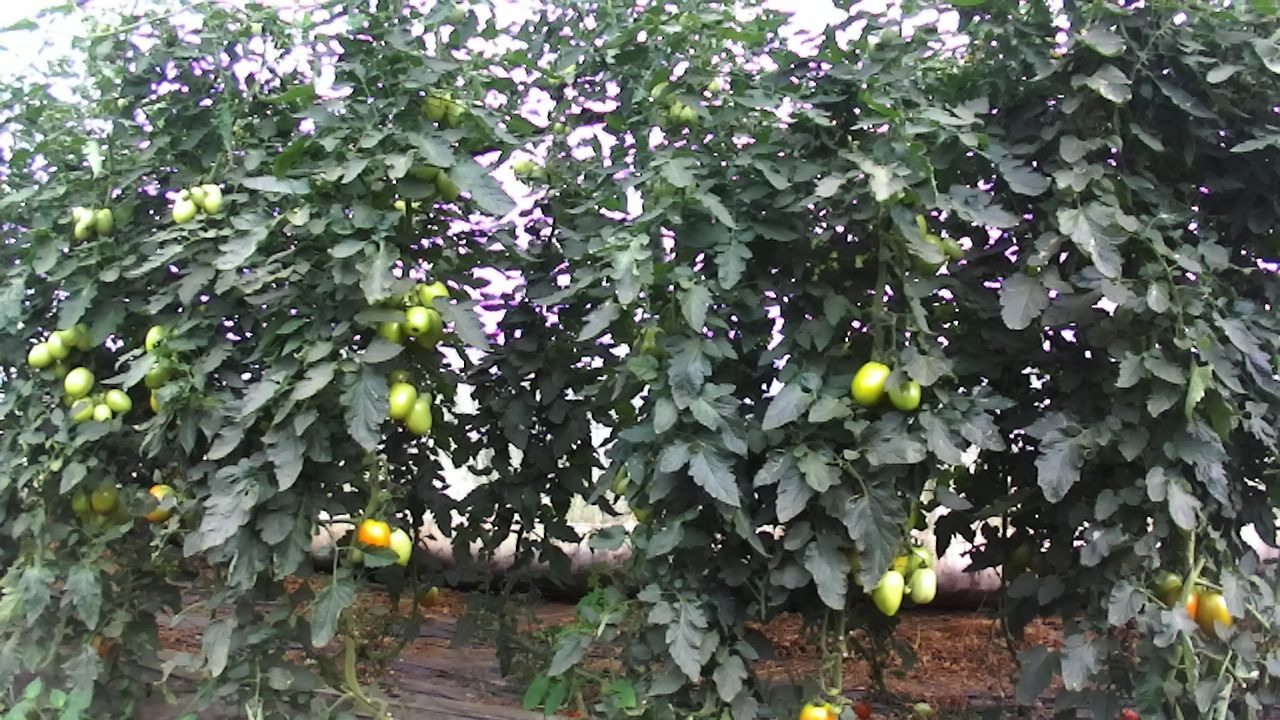tomato: (849, 359, 892, 409), (869, 567, 909, 619), (1195, 587, 1234, 635), (354, 515, 392, 552), (887, 374, 923, 413), (385, 383, 419, 422), (906, 565, 938, 606), (384, 524, 414, 567), (403, 395, 433, 437), (62, 364, 97, 400), (400, 303, 432, 337), (197, 181, 224, 217), (89, 483, 118, 514), (25, 340, 54, 369), (104, 386, 134, 414), (45, 328, 70, 360), (170, 196, 197, 224), (143, 363, 172, 389), (93, 206, 116, 238), (940, 236, 966, 261), (67, 486, 89, 515), (59, 322, 83, 348), (189, 183, 207, 208), (78, 207, 97, 230), (851, 700, 872, 720), (421, 585, 440, 607)
